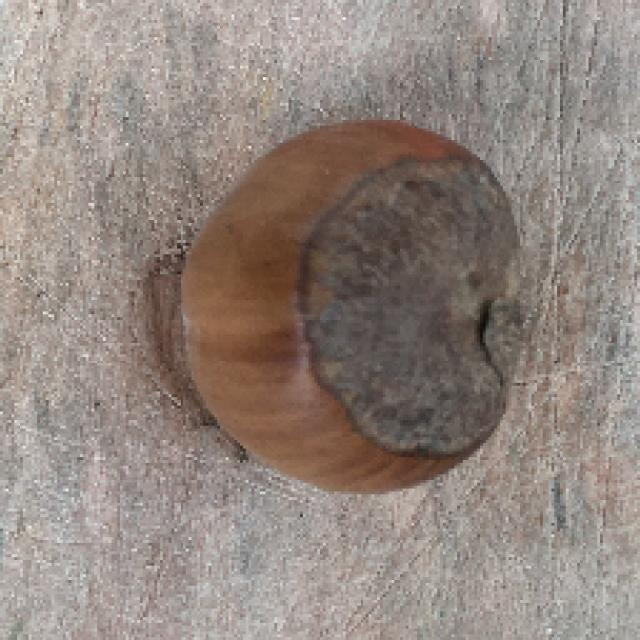qualityHazelnut: (187, 122, 537, 486)
